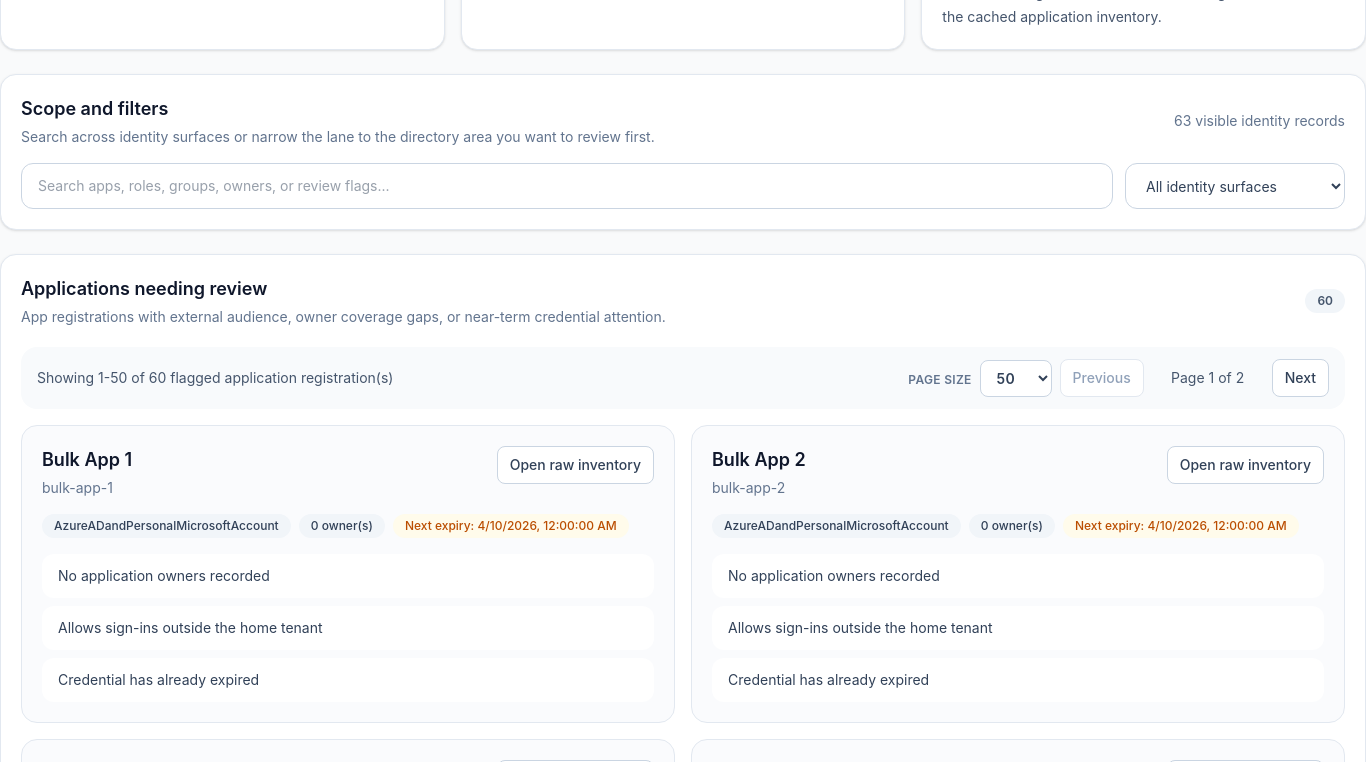
Scenario: AzureSecurityIdentityReviewPage › pages large flagged-app cohorts instead of rendering every identity card at once
This screenshot has width=1366, height=762.
(page scrolled)
Check: the text "Showing 1-50 of 60 flagged application registration(s)" is shown, box [37, 368, 393, 388]
Check: the heading "Bulk App 1" is shown, box [42, 446, 132, 474]
Step 1. Click the button "Next" → point(1300, 378), box [1272, 359, 1329, 397]
(page scrolled)
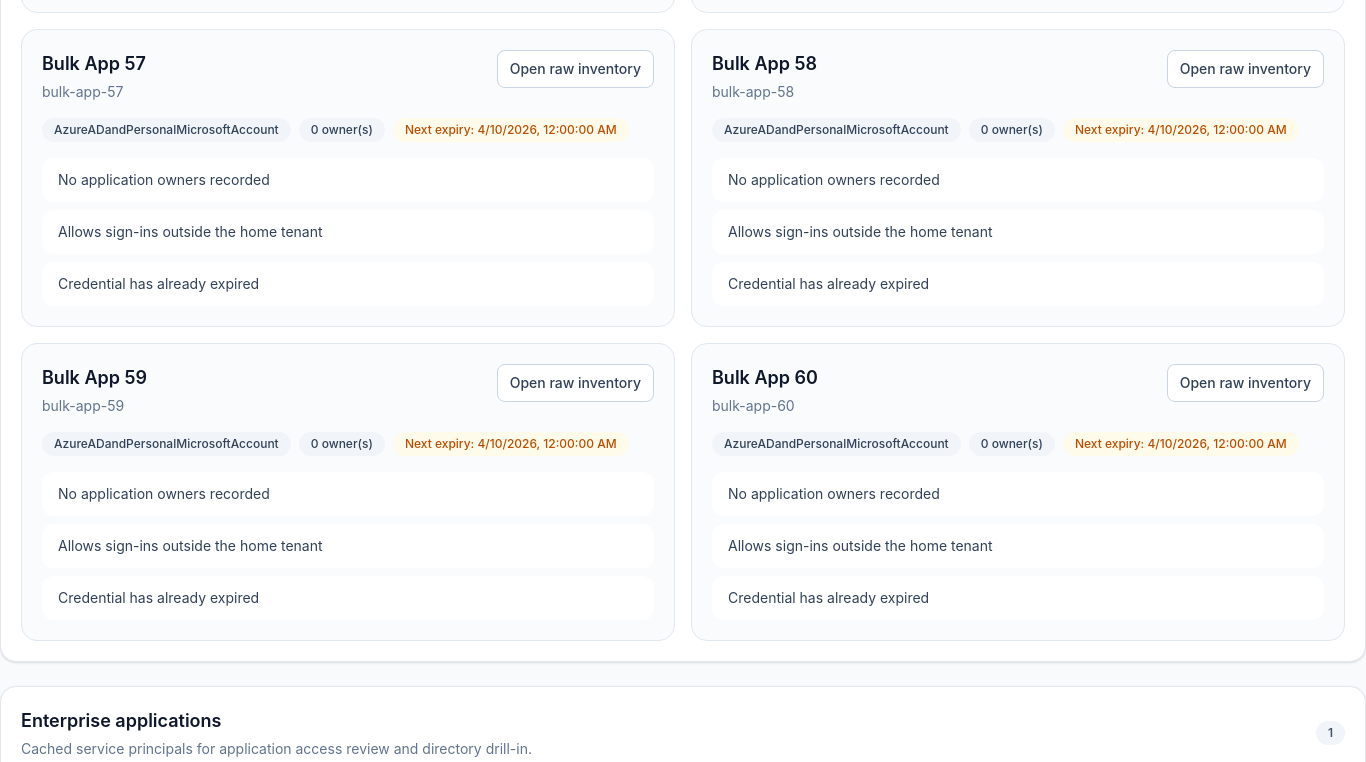
Check: the heading "Bulk App 60" is shown, box [712, 364, 818, 392]
